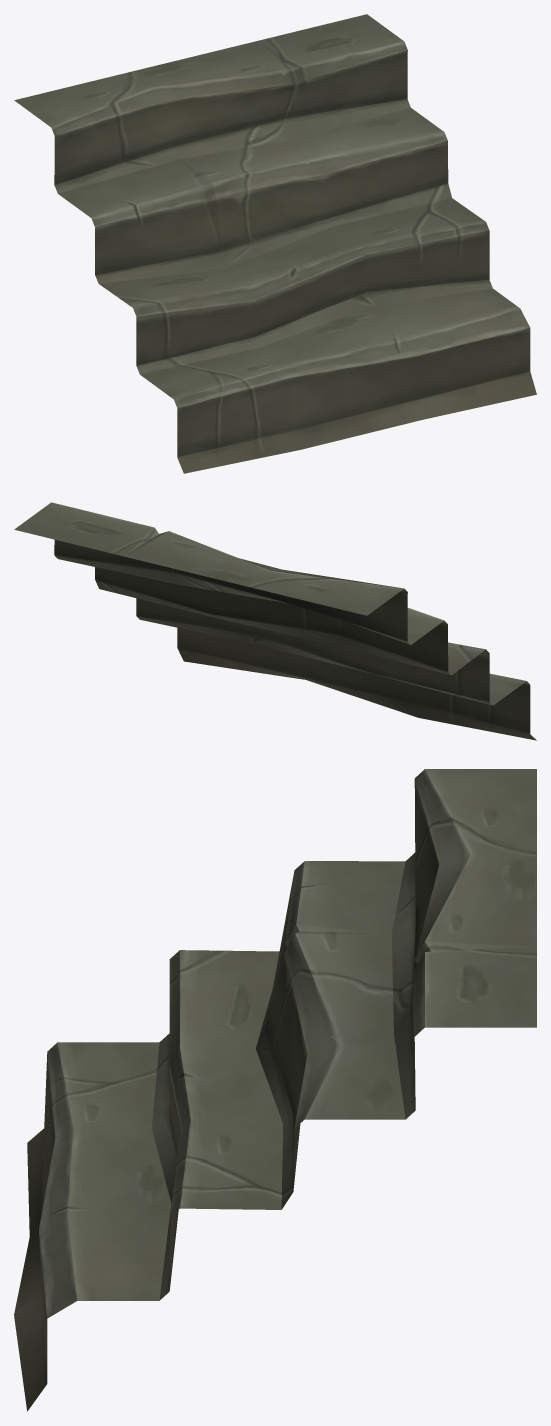
The model's file is Stone Stairs.fbx.
The picture shows the model from 3 angles, top to bottom: view 1: azimuth 30°, elevation 25°; view 2: azimuth 150°, elevation 25°; view 3: azimuth 270°, elevation 25°; orthographic projection. The views are drawn at different scales.
Visible parts, largest first — view 1: Stone Stairs; view 2: Stone Stairs; view 3: Stone Stairs.
Part boxes in pixels (<box>): Stone Stairs: <box>14,14,536,473</box>; Stone Stairs: <box>14,502,536,740</box>; Stone Stairs: <box>14,769,536,1411</box>.
Size of the model in its own units: 120 by 83.18 by 103.
1 material, 1 textured.
